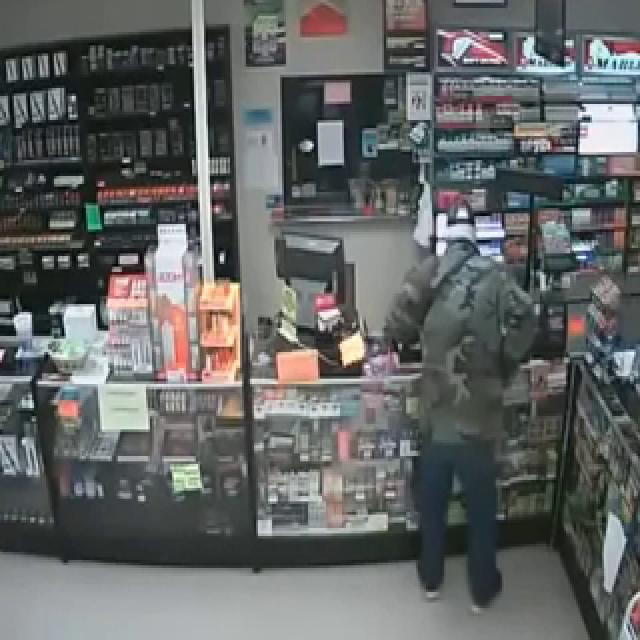robbery: (291, 0, 596, 640)
